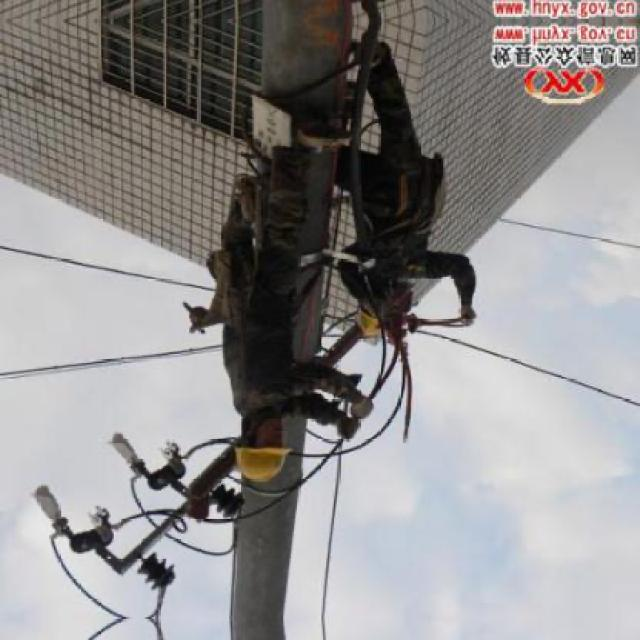con casco: (132, 388, 362, 501)
